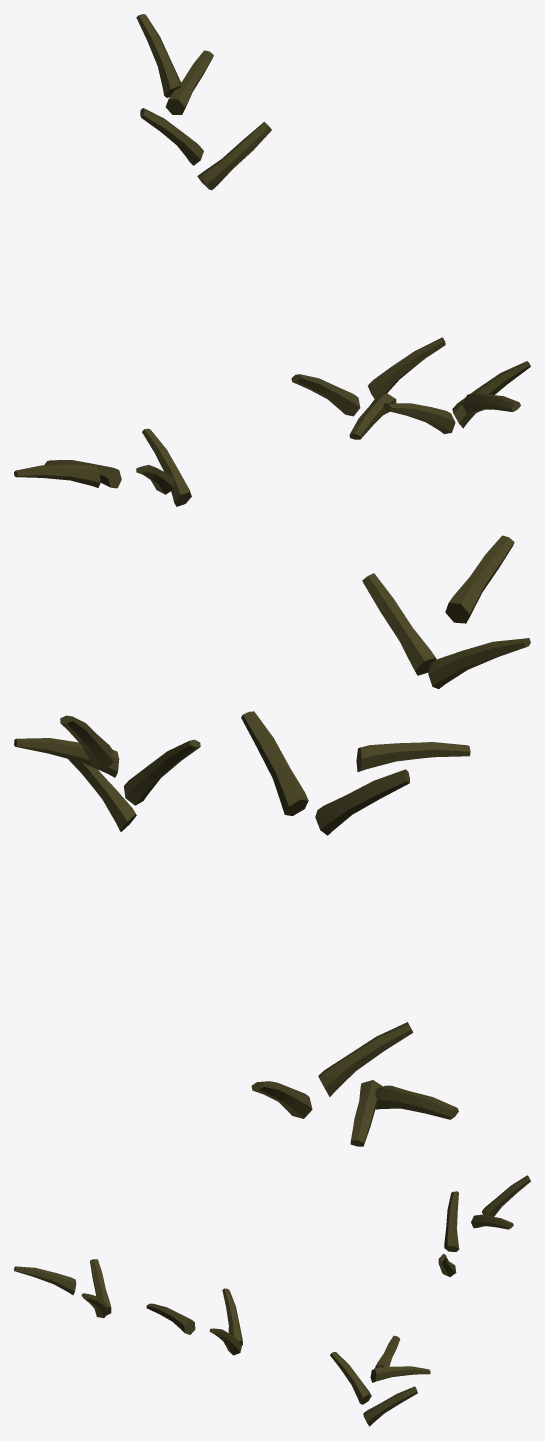
File: yejing3.fbx
The picture shows the model from 3 angles, top to bottom: view 1: azimuth 30°, elevation 25°; view 2: azimuth 150°, elevation 25°; view 3: azimuth 270°, elevation 25°; orthographic projection. The views are drawn at different scales.
Parts seen in each view (by area): view 1: polySurface122; view 2: polySurface122; view 3: polySurface122.
Part boxes in pixels (x1=…): polySurface122: x1=14, y1=14, x2=530, y2=506; polySurface122: x1=14, y1=535, x2=530, y2=1146; polySurface122: x1=14, y1=1175, x2=530, y2=1426.
Size of the model in its own units: 1.3 by 1.61 by 2.75.
